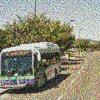buses: (0, 42, 66, 92)
